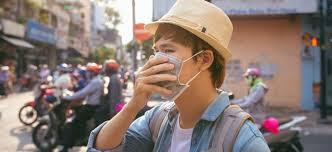Wearing Mask: (140, 1, 240, 113)
